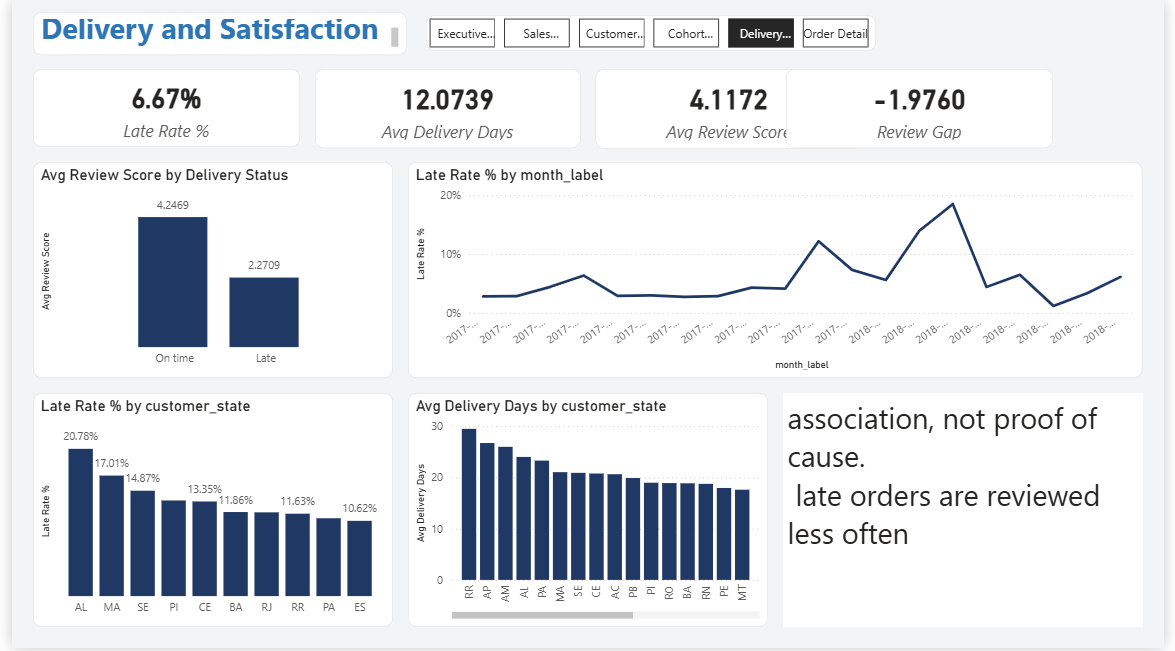

What the dashboard file says about the page in this screenshot:
{"tool":"powerbi","page":{"name":"Delivery and Satisfaction","canvas":[1280,720],"ordinal":4},"visuals":[{"type":"card","fields":{"Values":["_Measures.Late Rate %"]},"box":[24,76,296.7,86.7],"z":0},{"type":"card","fields":{"Values":["_Measures.Avg Delivery Days"]},"box":[336,76,295,88],"z":1000},{"type":"card","fields":{"Values":["_Measures.Avg Review Score"]},"box":[648,76,296.7,88.3],"z":2000},{"type":"card","fields":{"Values":["_Measures.Review Gap"]},"box":[860,76,296.7,88],"z":3000},{"type":"columnChart","fields":{"Category":["Orders.Delivery Status"],"Y":["_Measures.Avg Review Score"]},"box":[24,180,400,240],"z":4000},{"type":"lineChart","fields":{"Category":["Date.month_label"],"Y":["_Measures.Late Rate %"]},"box":[440,180,816,240],"z":5000},{"type":"columnChart","fields":{"Category":["Customer.customer_state"],"Y":["_Measures.Late Rate %"]},"box":[24,436,400,260],"z":6000},{"type":"columnChart","fields":{"Category":["Customer.customer_state"],"Y":["_Measures.Avg Delivery Days"]},"box":[440,436,400,260],"z":7000},{"type":"textbox","box":[24,12.7,415.5,48],"z":8000},{"type":"pageNavigator","box":[460,16,500,40],"z":9000},{"type":"textbox","box":[856,436,400,260],"z":10000}]}

Visuals, with their boxes in screenshot pixels (x1, y1, x2, y2), scaled from the page's 1280x720 canvas onto the 1175x651 screenshot:
card - _Measures.Late Rate %: <bbox>22, 69, 294, 147</bbox>
card - _Measures.Avg Delivery Days: <bbox>308, 69, 579, 148</bbox>
card - _Measures.Avg Review Score: <bbox>595, 69, 867, 149</bbox>
card - _Measures.Review Gap: <bbox>789, 69, 1062, 148</bbox>
columnChart - Orders.Delivery Status x _Measures.Avg Review Score: <bbox>22, 163, 389, 380</bbox>
lineChart - Date.month_label x _Measures.Late Rate %: <bbox>404, 163, 1153, 380</bbox>
columnChart - Customer.customer_state x _Measures.Late Rate %: <bbox>22, 394, 389, 629</bbox>
columnChart - Customer.customer_state x _Measures.Avg Delivery Days: <bbox>404, 394, 771, 629</bbox>
textbox: <bbox>22, 11, 403, 55</bbox>
pageNavigator: <bbox>422, 14, 881, 51</bbox>
textbox: <bbox>786, 394, 1153, 629</bbox>
